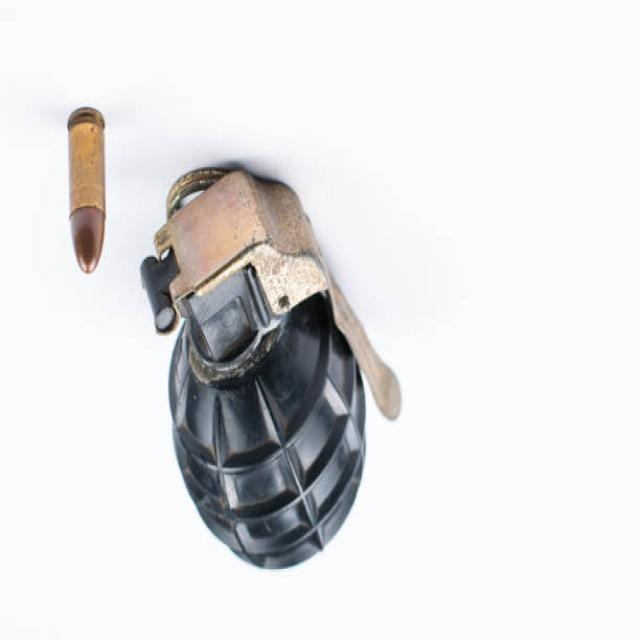grenade: (138, 155, 410, 583)
